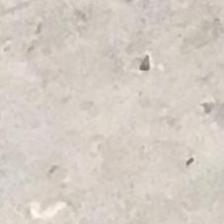Non_Crack: (3, 6, 224, 224)
